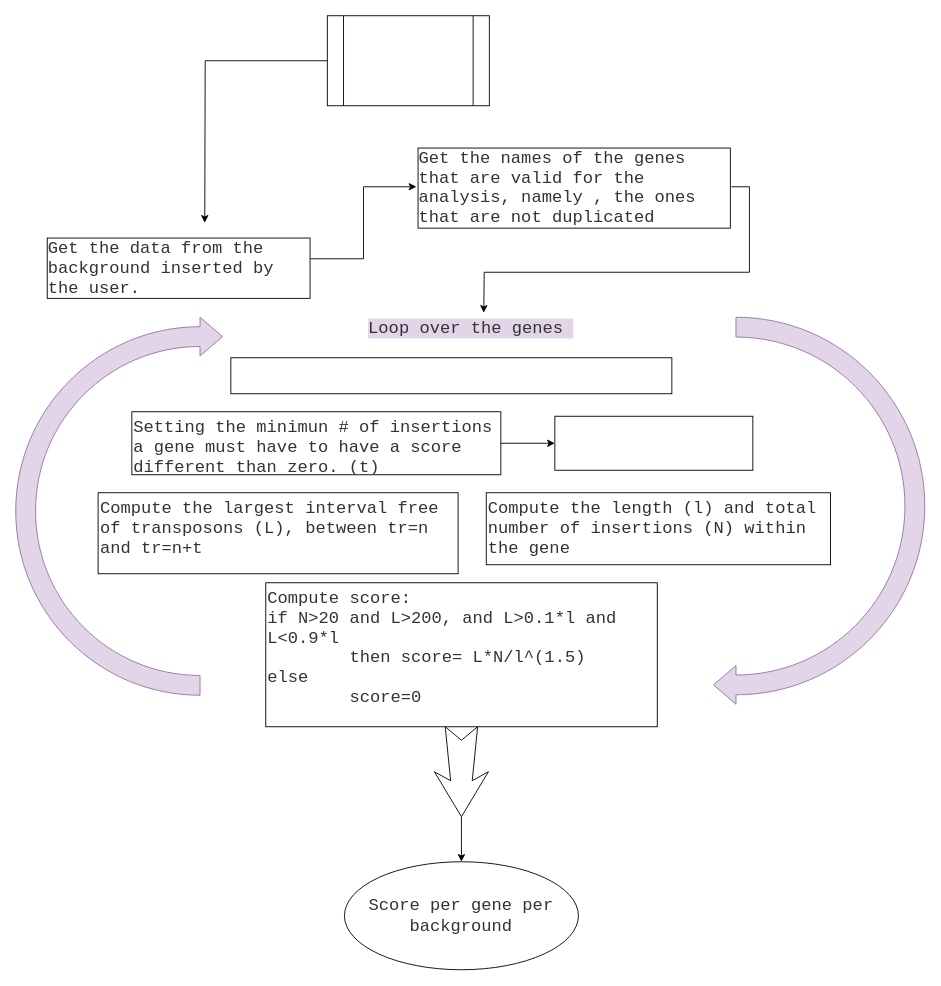
This 941x986 diagram has some shape labels left out. Here are the shapes that lost their labels. From the top down, the centre of each, then its label:
At pixel 407 60: "Scores Function".
At pixel 451 375: "Read the insertion locations per gene (n)".
At pixel 653 442: "if len(n)<t then score=0".
